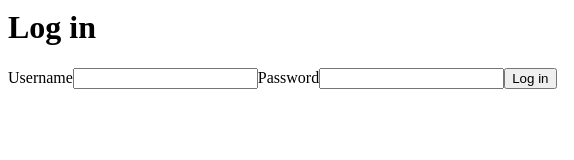
Test: wrong password shows an error and no library
Type "alice" into the field labelled "Username".
click(165, 78); type("alice")  # box [73, 68, 258, 89]
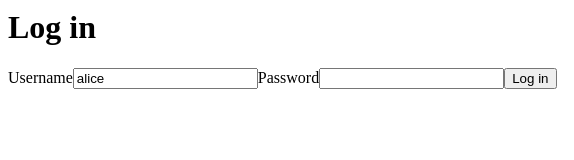
Type "wrong" into the password field labelled "Password".
click(412, 78); type("wrong")  # box [319, 68, 504, 89]
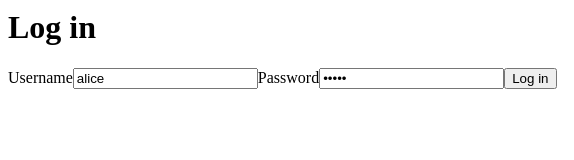
Click the button "Log in".
click(530, 78)  # box [504, 68, 556, 89]
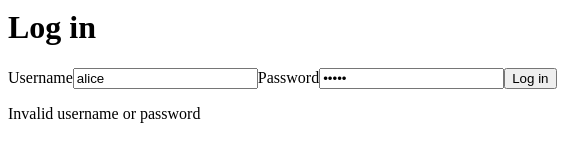
expect the message reads "Invalid username or password": met, box [8, 105, 200, 122]
